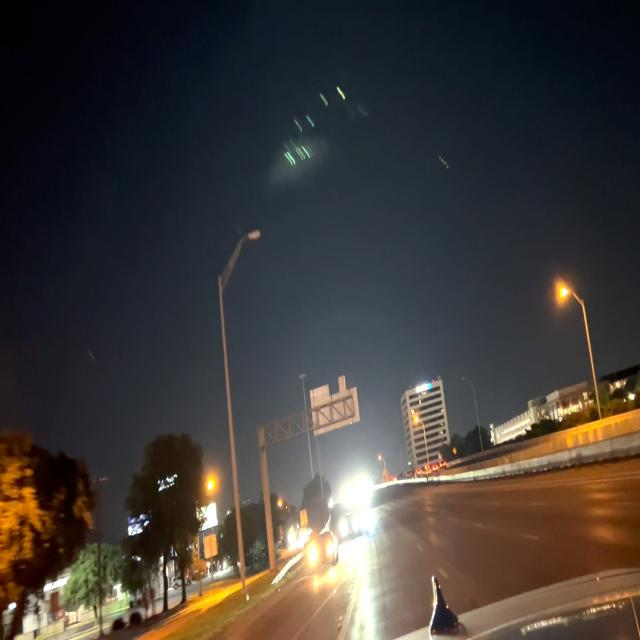back-of-sign: (311, 377, 361, 442)
